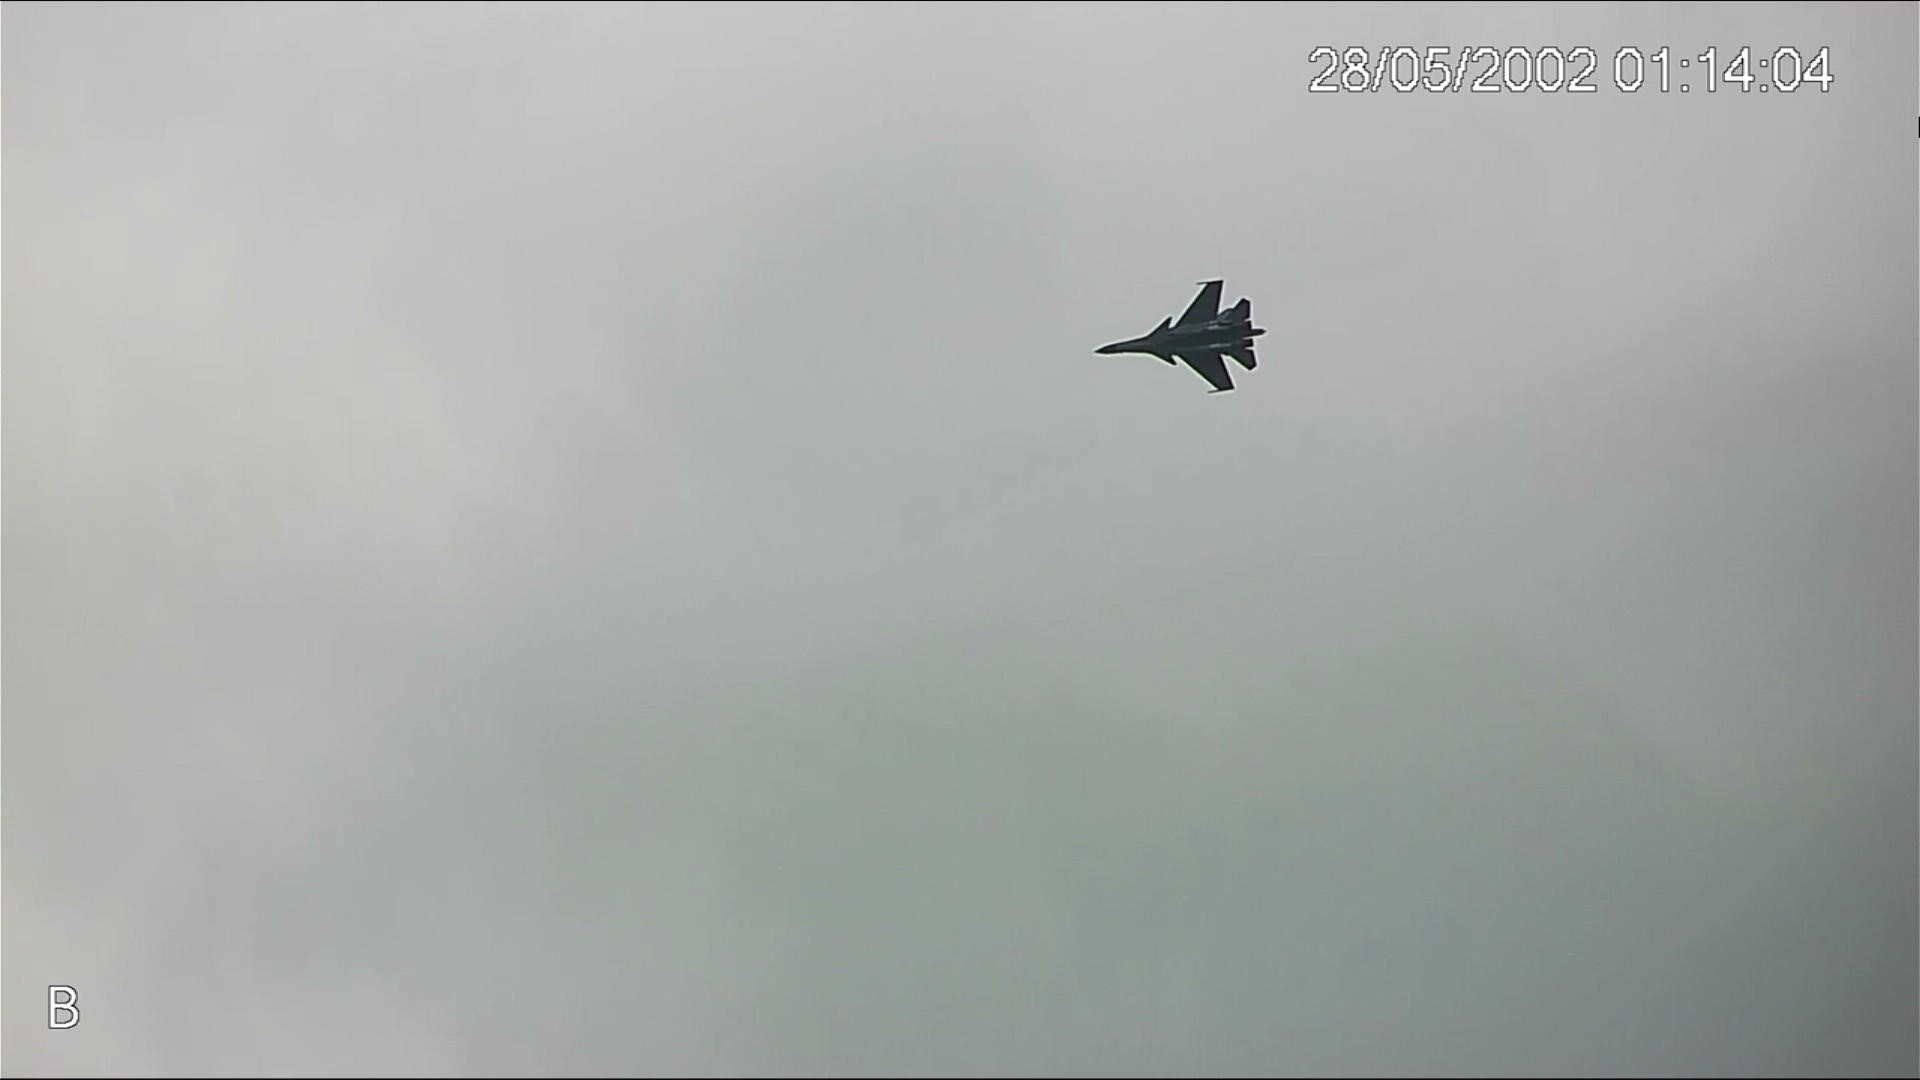SU_30: (1093, 274, 1275, 404)
